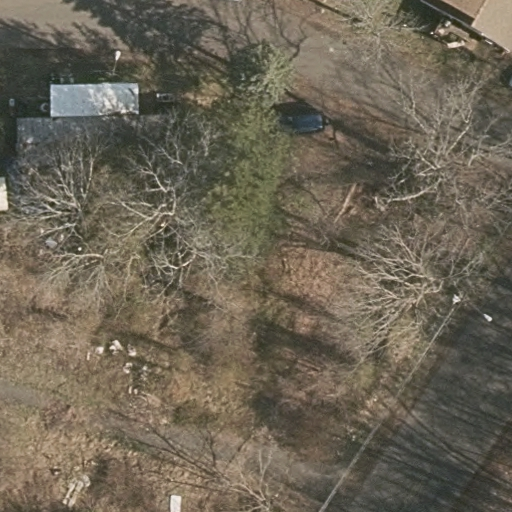DT: (445, 273, 498, 327)
